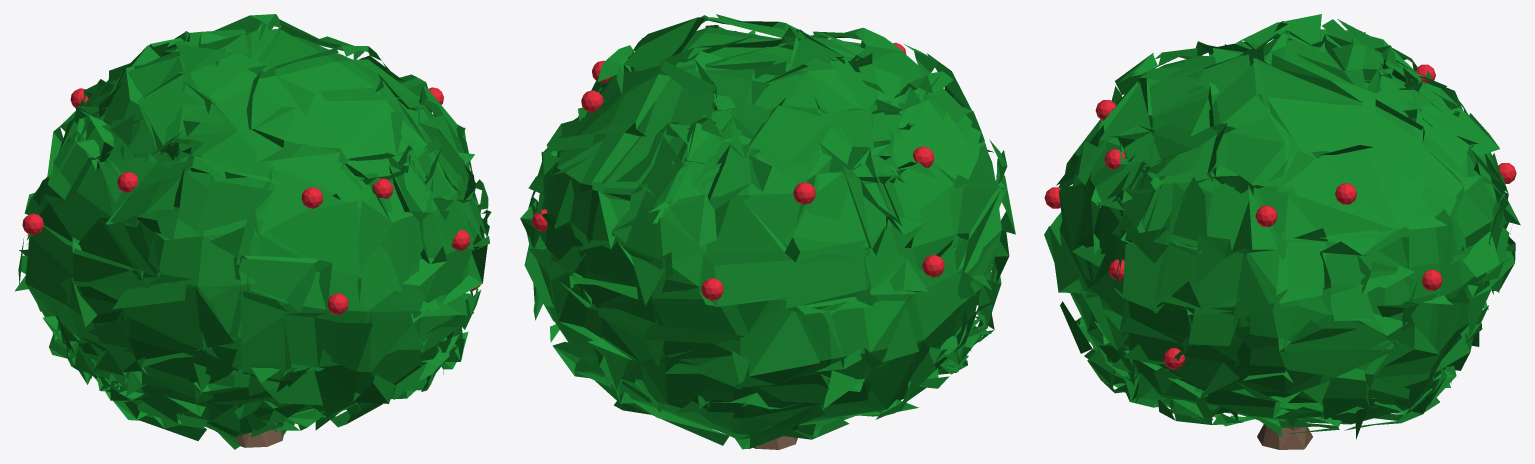
Rendered from berry_bush.glb.
3 views of the same model, side by side, from view 1: azimuth 30°, elevation 25°; view 2: azimuth 150°, elevation 25°; view 3: azimuth 270°, elevation 25° (orthographic). The views are drawn at different scales.
Visible parts, largest first — view 1: leaves, bush, trunk; view 2: leaves, bush; view 3: leaves, bush, trunk.
Boxes of the visible parts, x1,y1,x2,y2 form: leaves: [15, 14, 491, 449]; bush: [25, 28, 479, 437]; trunk: [235, 423, 283, 447]; leaves: [520, 14, 1015, 449]; bush: [542, 27, 1001, 434]; leaves: [1044, 14, 1520, 439]; bush: [1059, 29, 1506, 424]; trunk: [1257, 422, 1312, 449].
Size of the model in its own units: 1.73 by 1.6 by 1.74.
